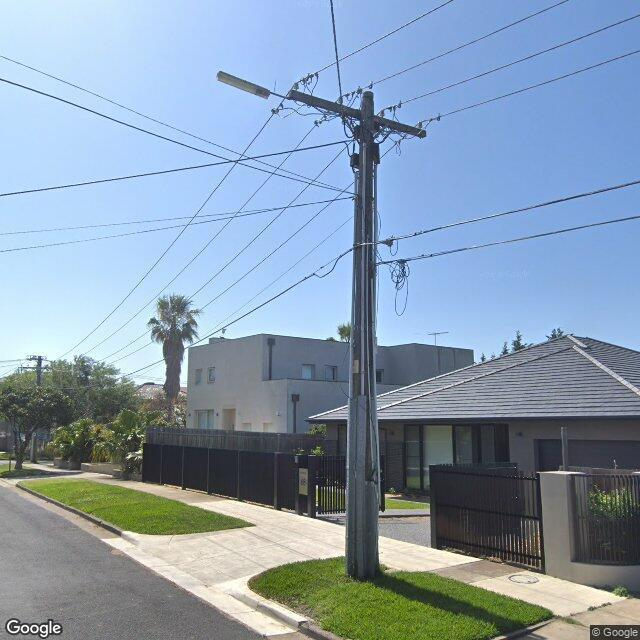crossarm: (289, 90, 426, 138), (18, 367, 48, 369), (27, 358, 43, 360)
streetlight: (216, 71, 291, 100)
timber-pole: (345, 92, 379, 580), (30, 356, 42, 463)
